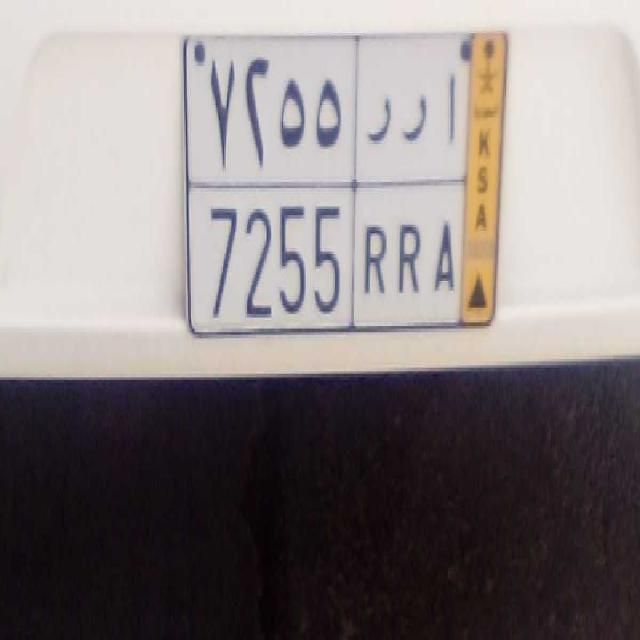license_plate: (187, 185, 463, 338)
